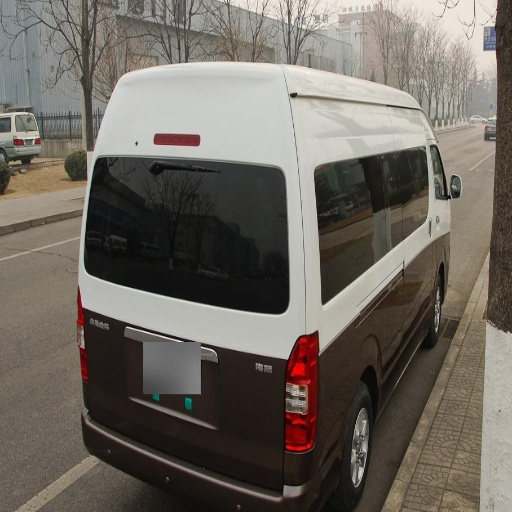back_bumper: (156, 397, 347, 505)
back_glass: (95, 177, 282, 310), (130, 82, 233, 121)
back_right_door: (380, 316, 410, 383)
back_right_light: (288, 334, 319, 424)
trunk: (97, 302, 307, 472)
